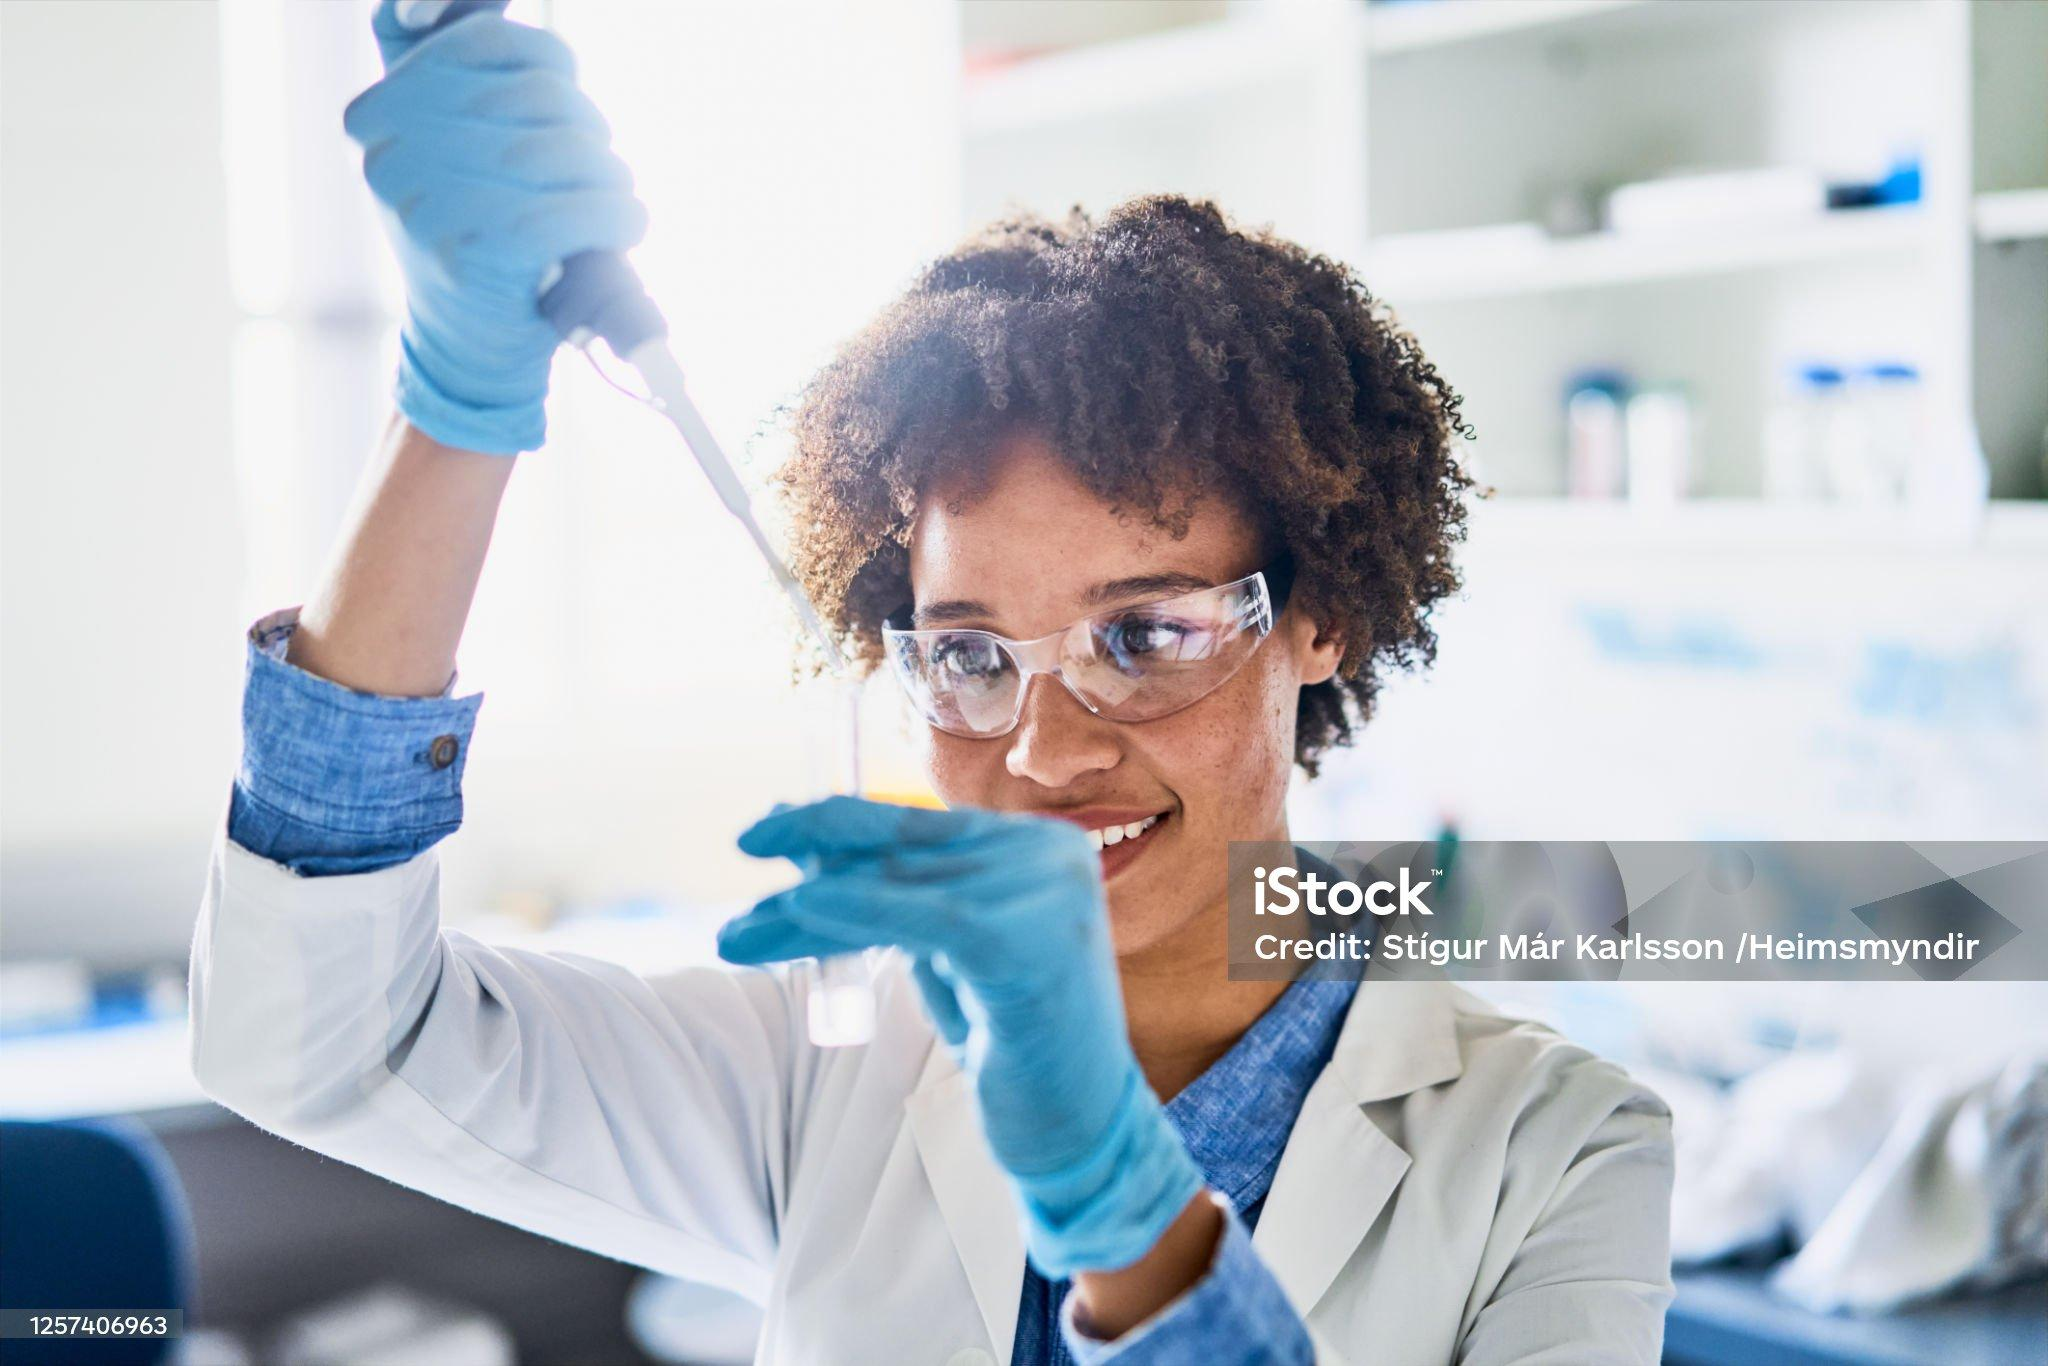Goggles: (882, 572, 1275, 739)
